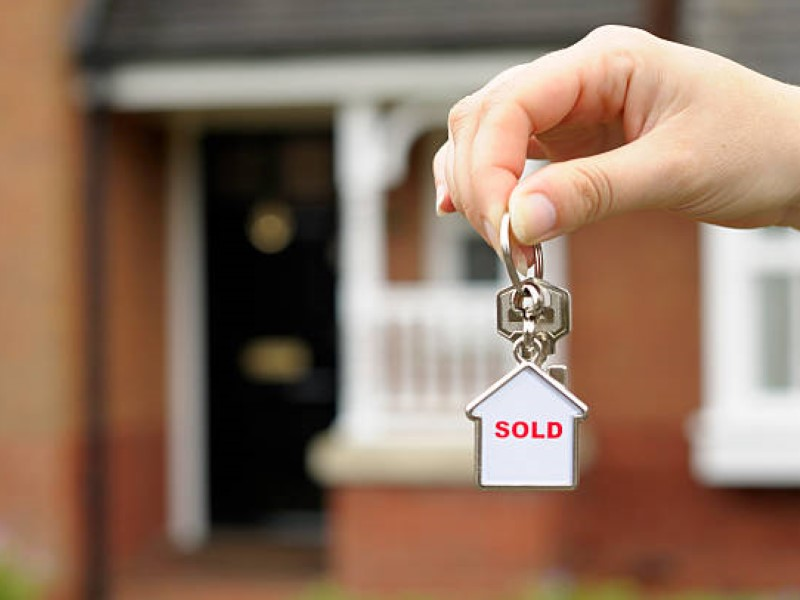key: (490, 276, 574, 383)
